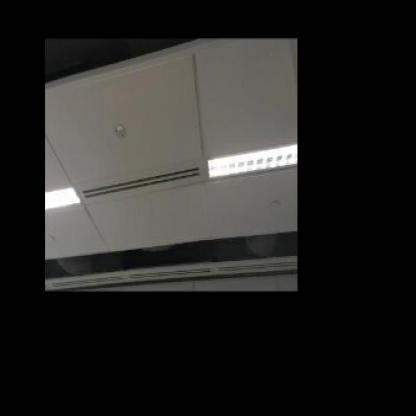light_on: (203, 134, 297, 185), (45, 178, 85, 218)
